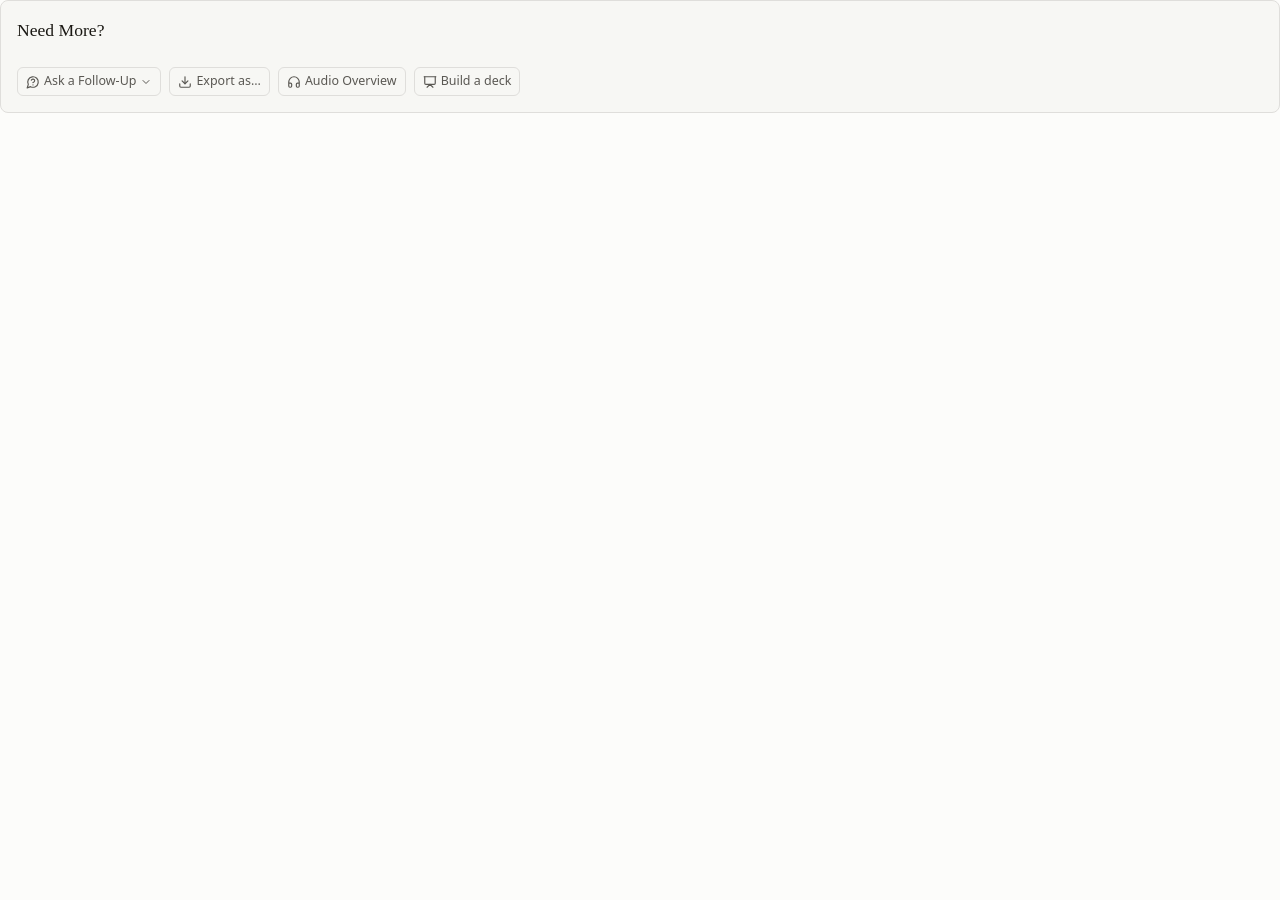
Test case: AuxDialogFocus › F1: export selector Close returns focus to the Export opener
The image size is (1280, 900).
Click the button "Export as…" at {"x": 220, "y": 82}, box [169, 67, 270, 96]
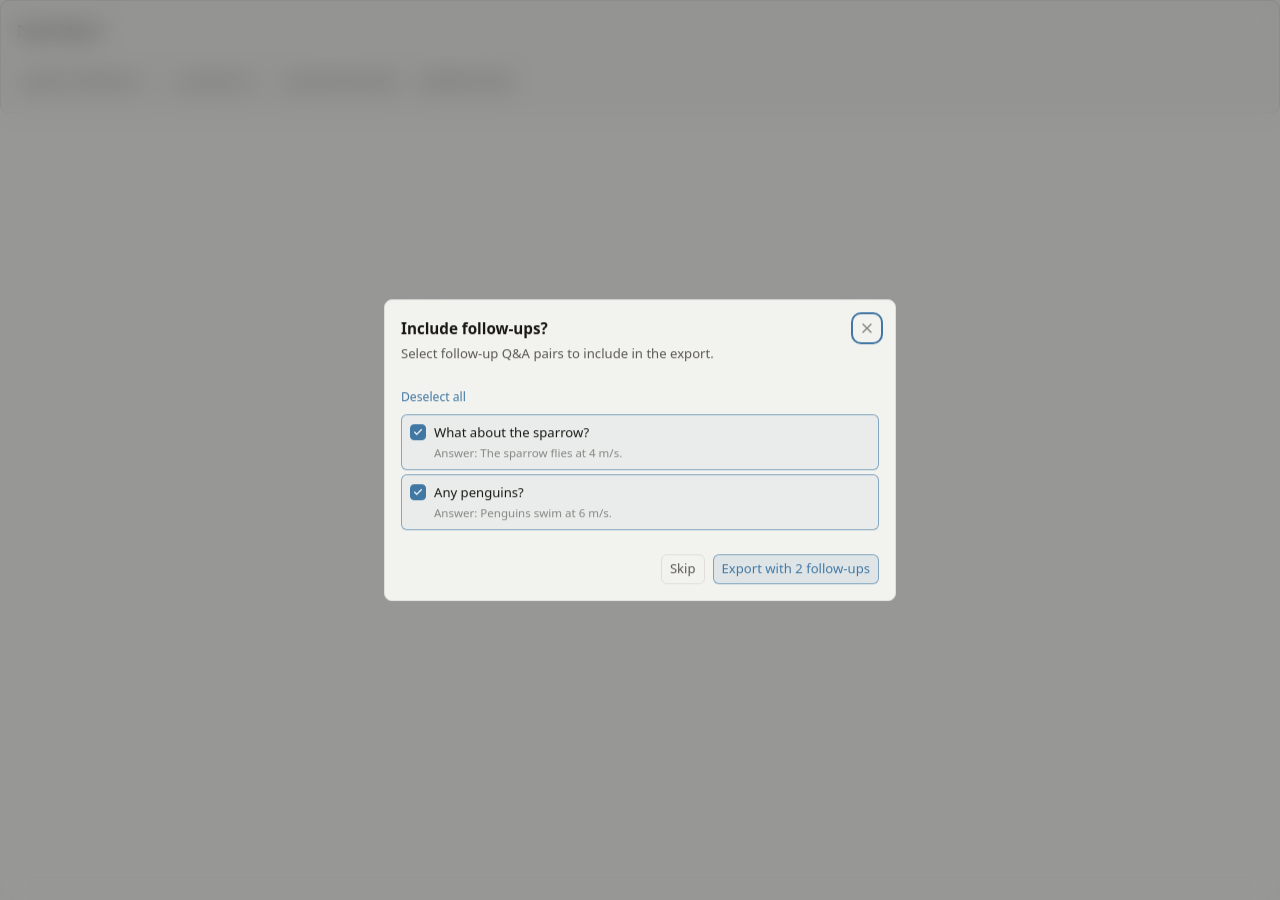
Click the button named "Close dialog" at {"x": 867, "y": 328}, box [855, 316, 879, 340]
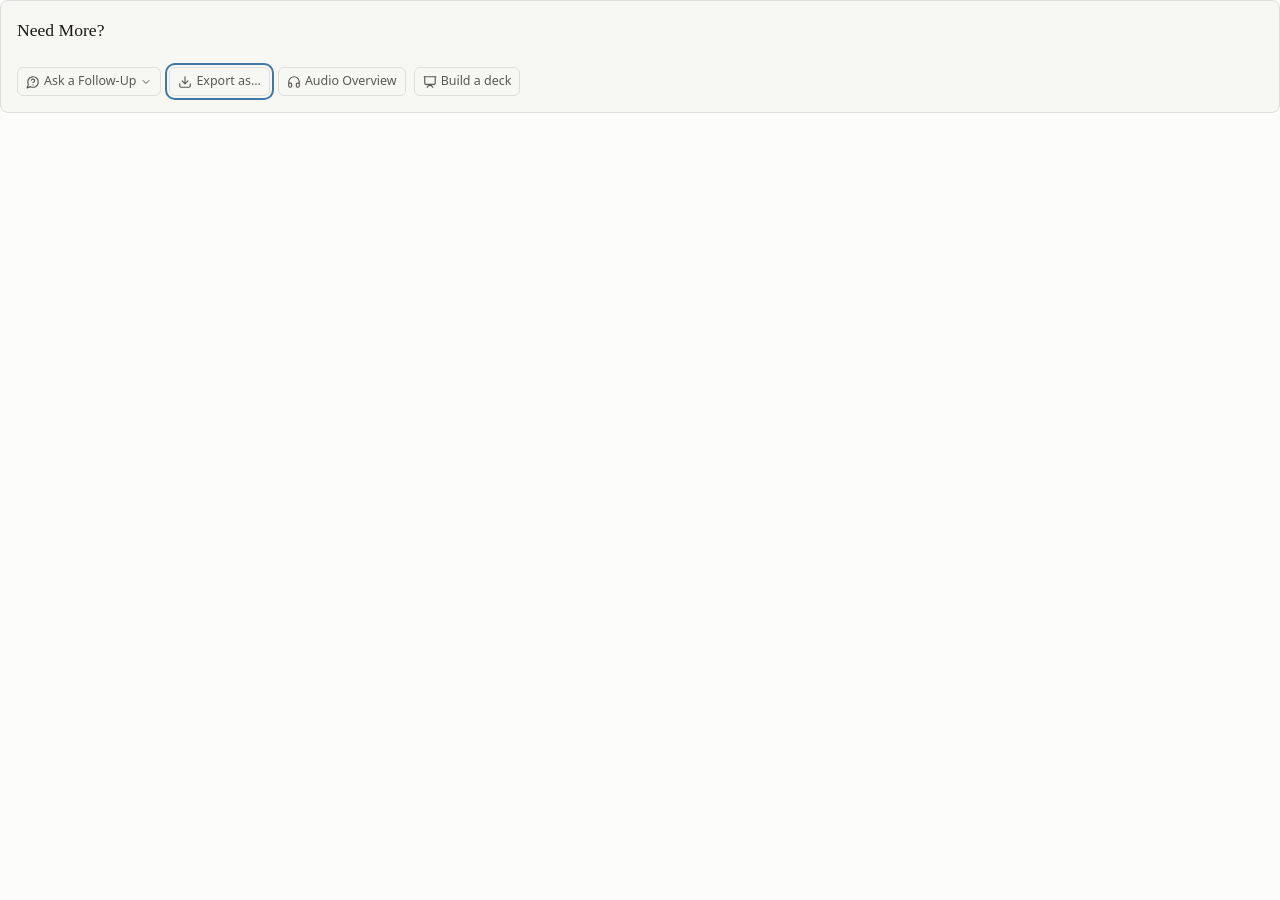
Result: the dialog is gone
